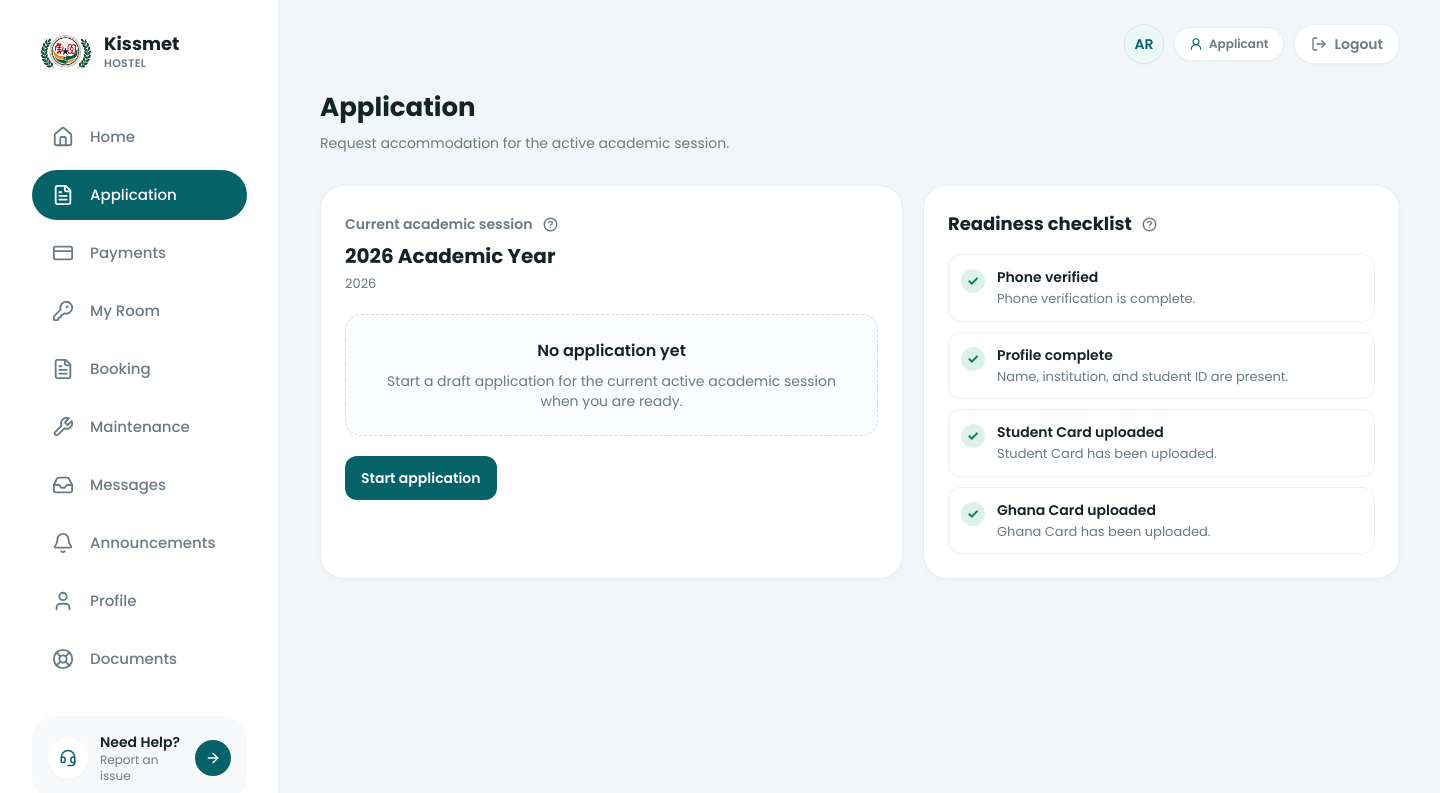
Test: resident application workflow › shows no-application state and starts a draft without caller-owned identifiers
Expected: the heading "No application yet" is shown, [537,338,686,362]
What coordinates should you click on to do the following:
click the button "Start application"
I would click on:
 (421, 478)
Its box is [345,456,497,500].
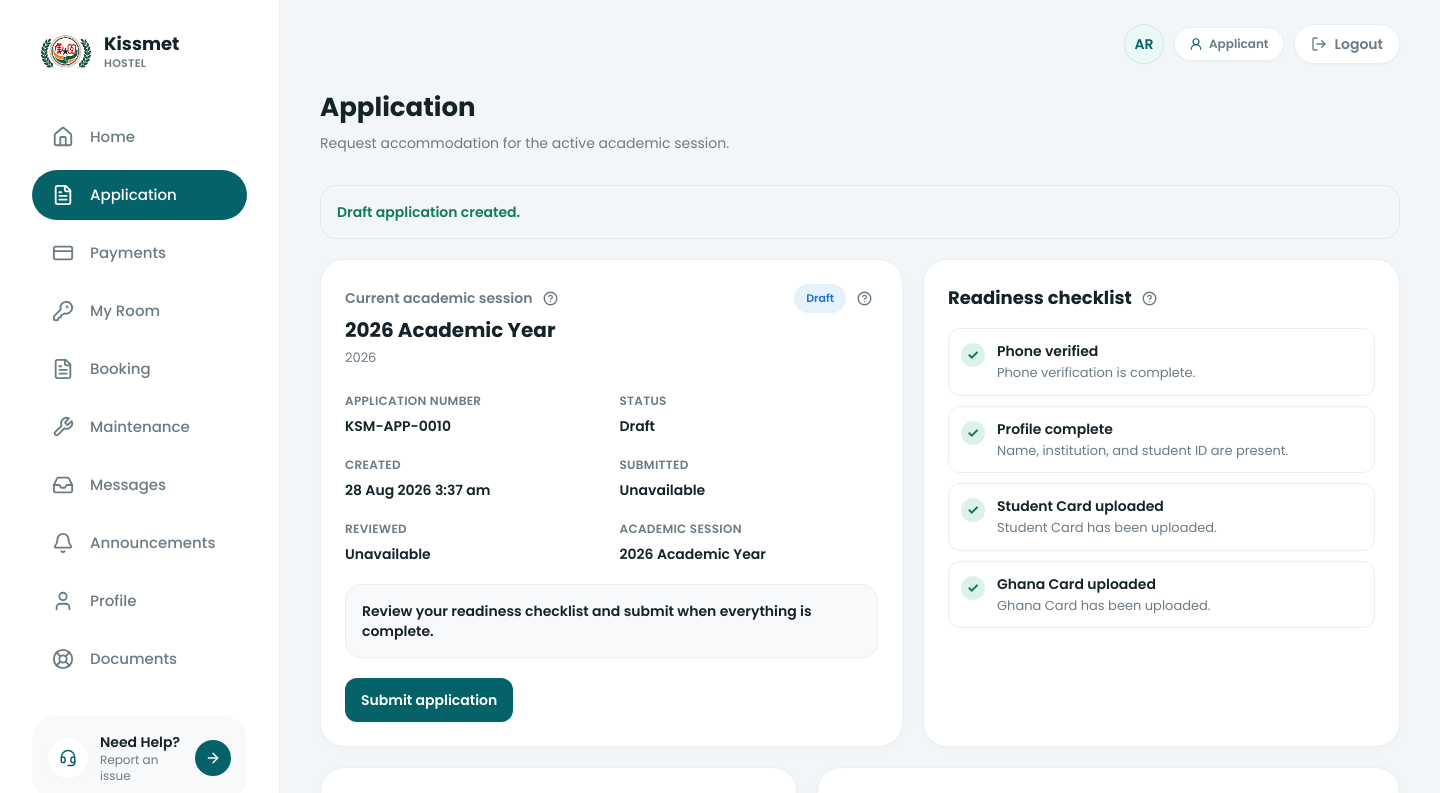
Expected: the text "KSM-APP-0010" is shown, [345,416,451,436]
